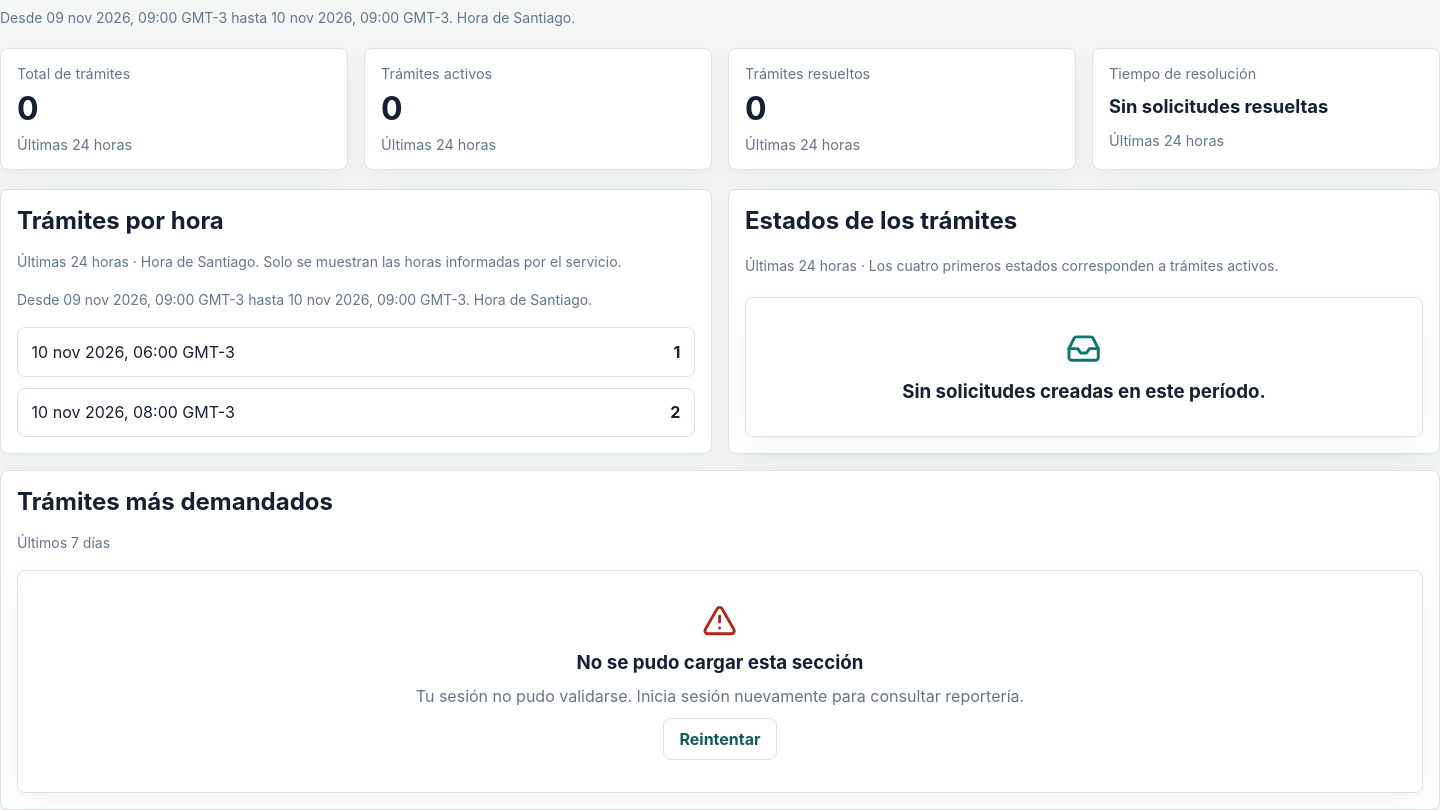
Test: existing Reports page › isolates and safely presents section failure 0
(page scrolled)
expect the message shows "sesión no pudo validarse": met, box [416,686,1024,706]
expect the element "Total de trámites" is shown: met, box [0,48,348,170]
Click the button: (720, 739) [663,718,777,760]
(page scrolled)
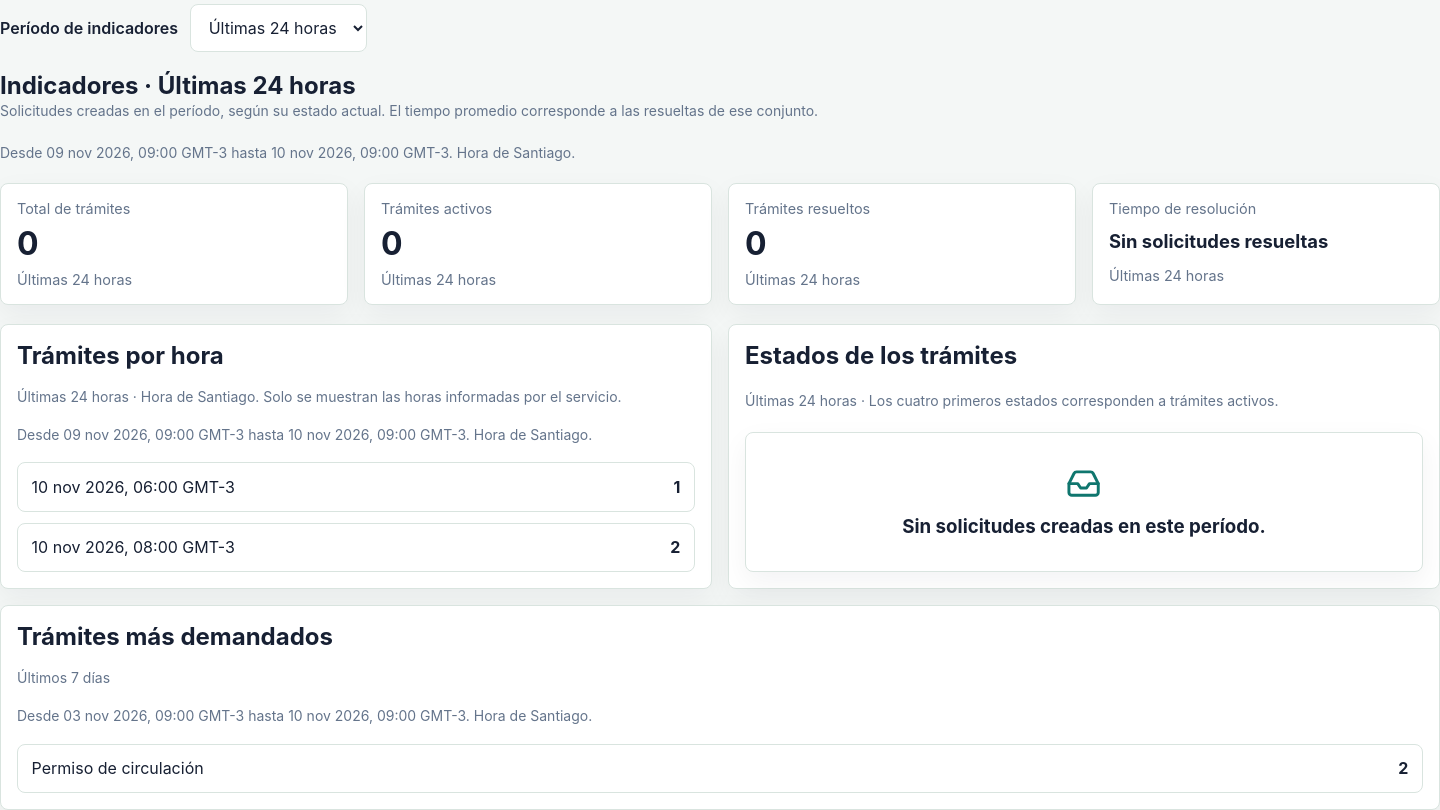
expect the text "Permiso de circulación" is shown: met, box [32,758,204,778]
